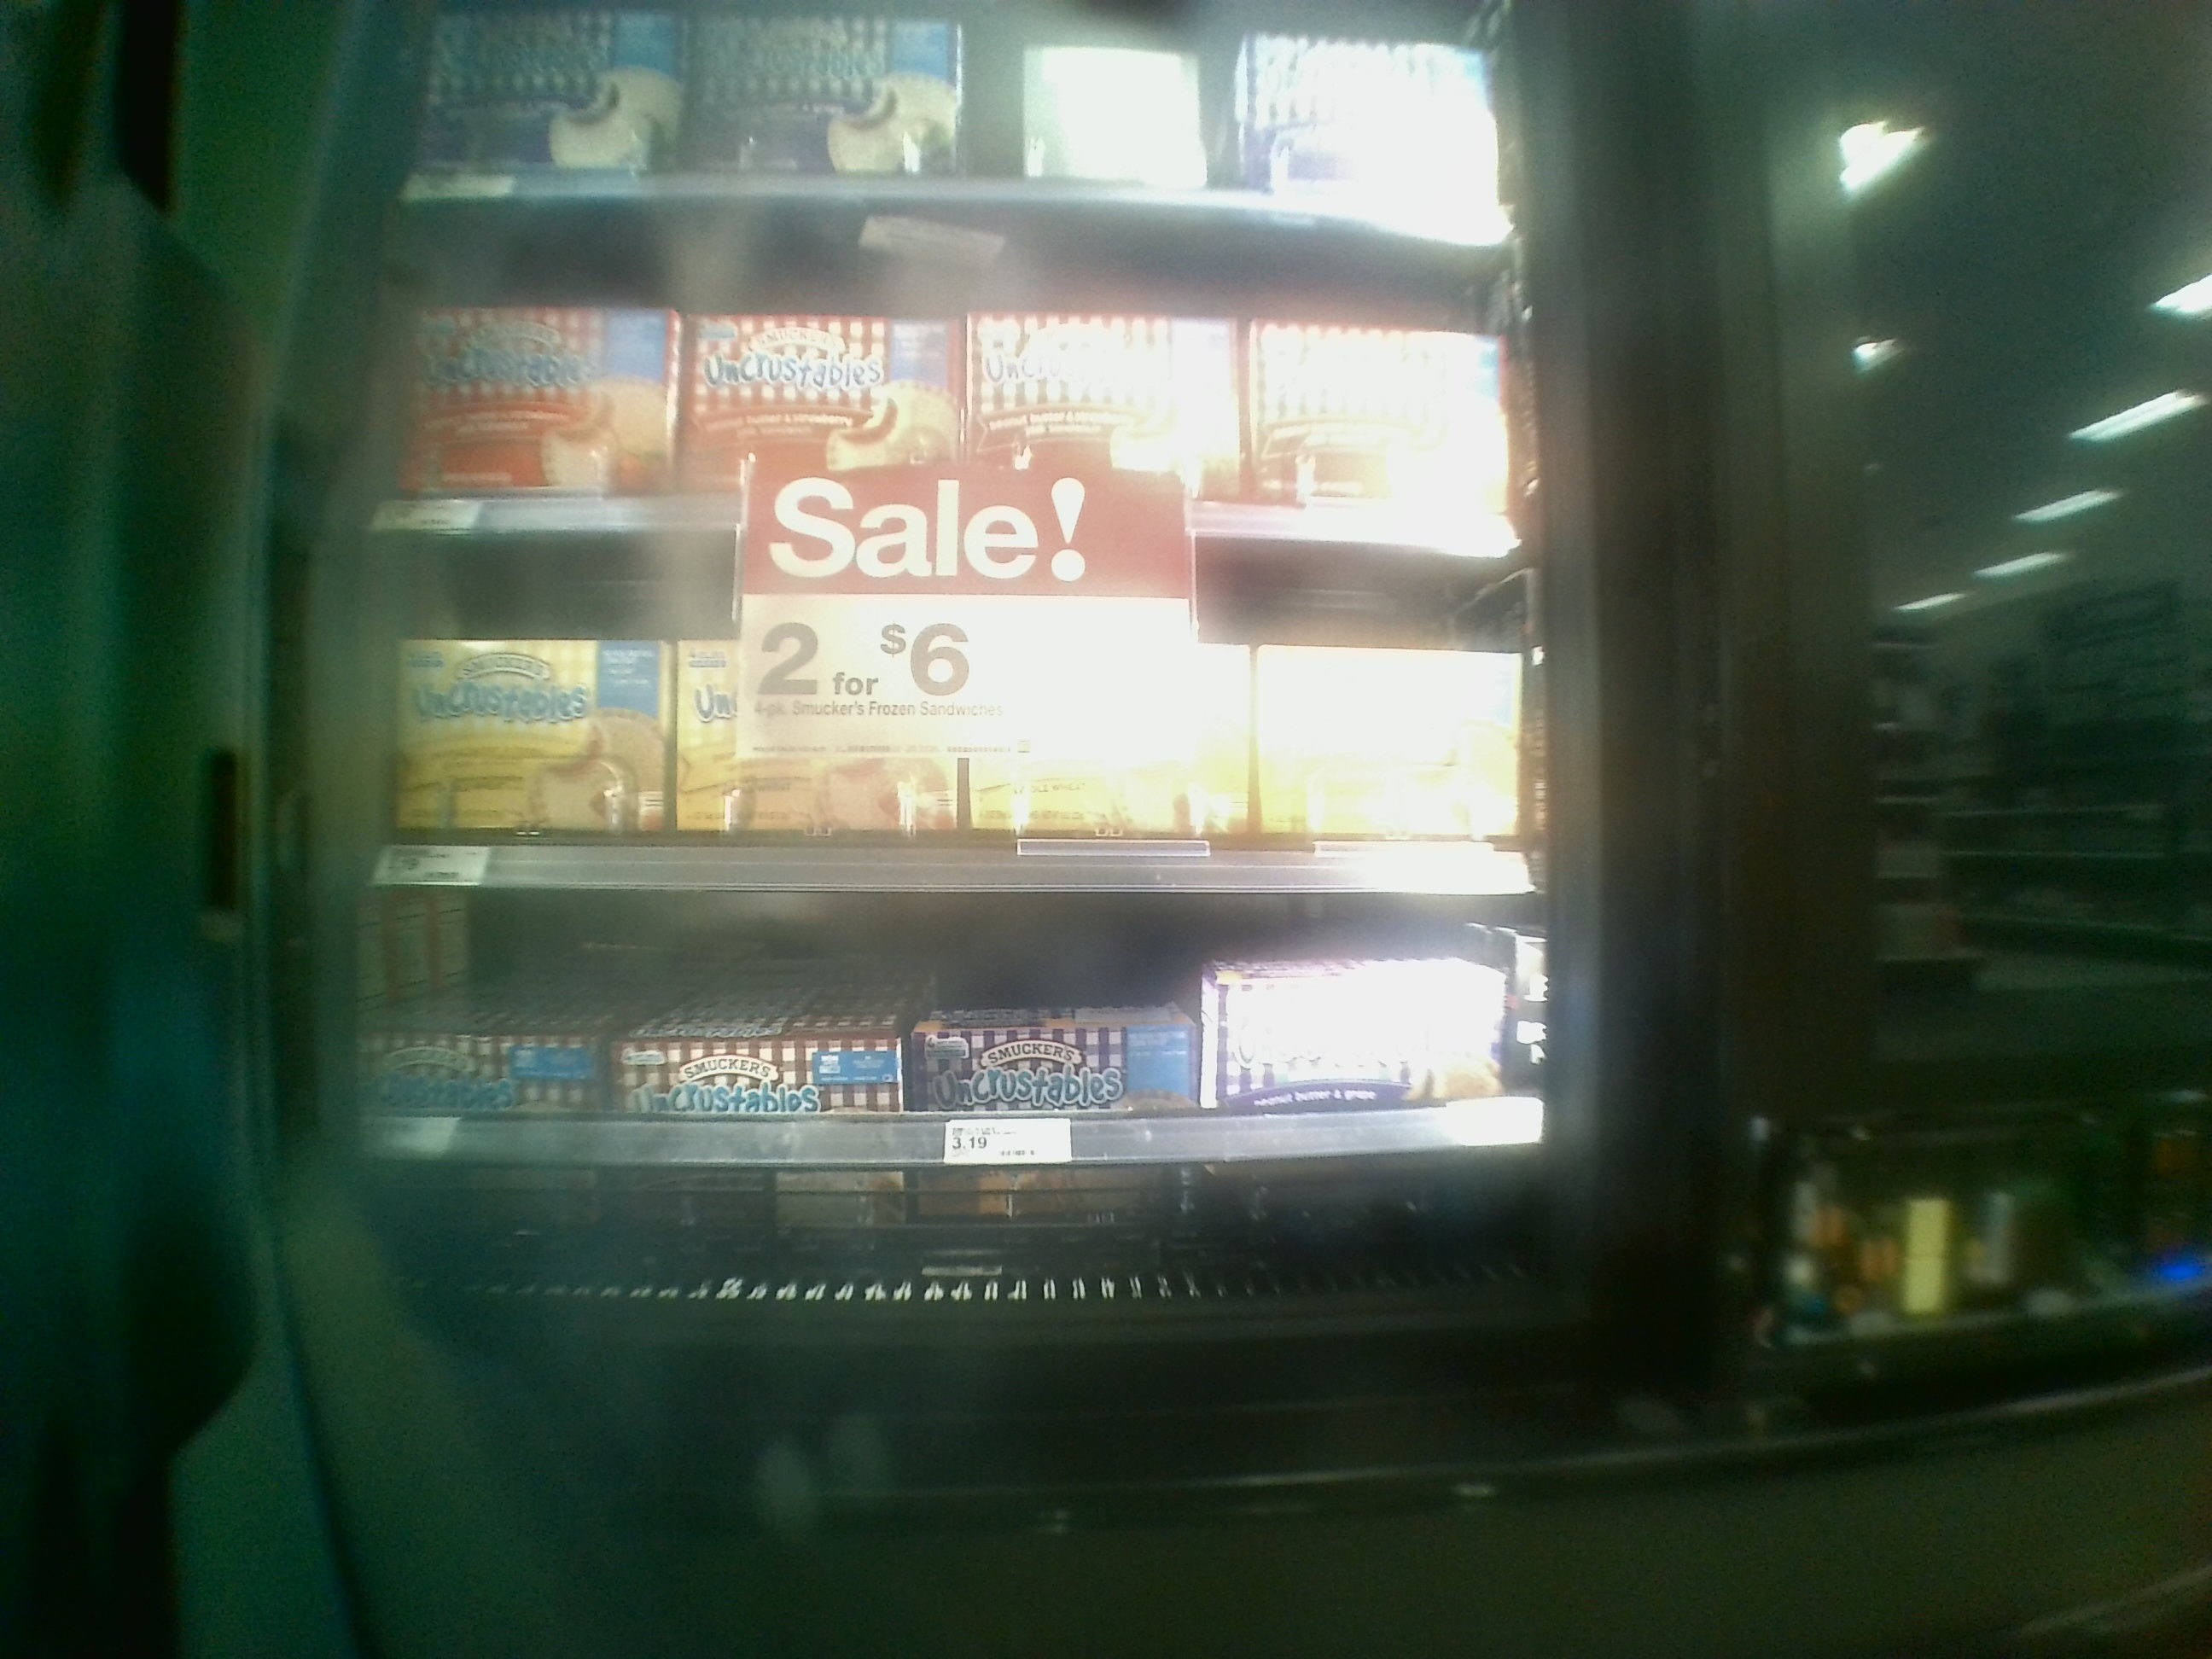shelf: (350, 903, 1555, 1370), (350, 519, 1545, 903), (364, 202, 1534, 559)
